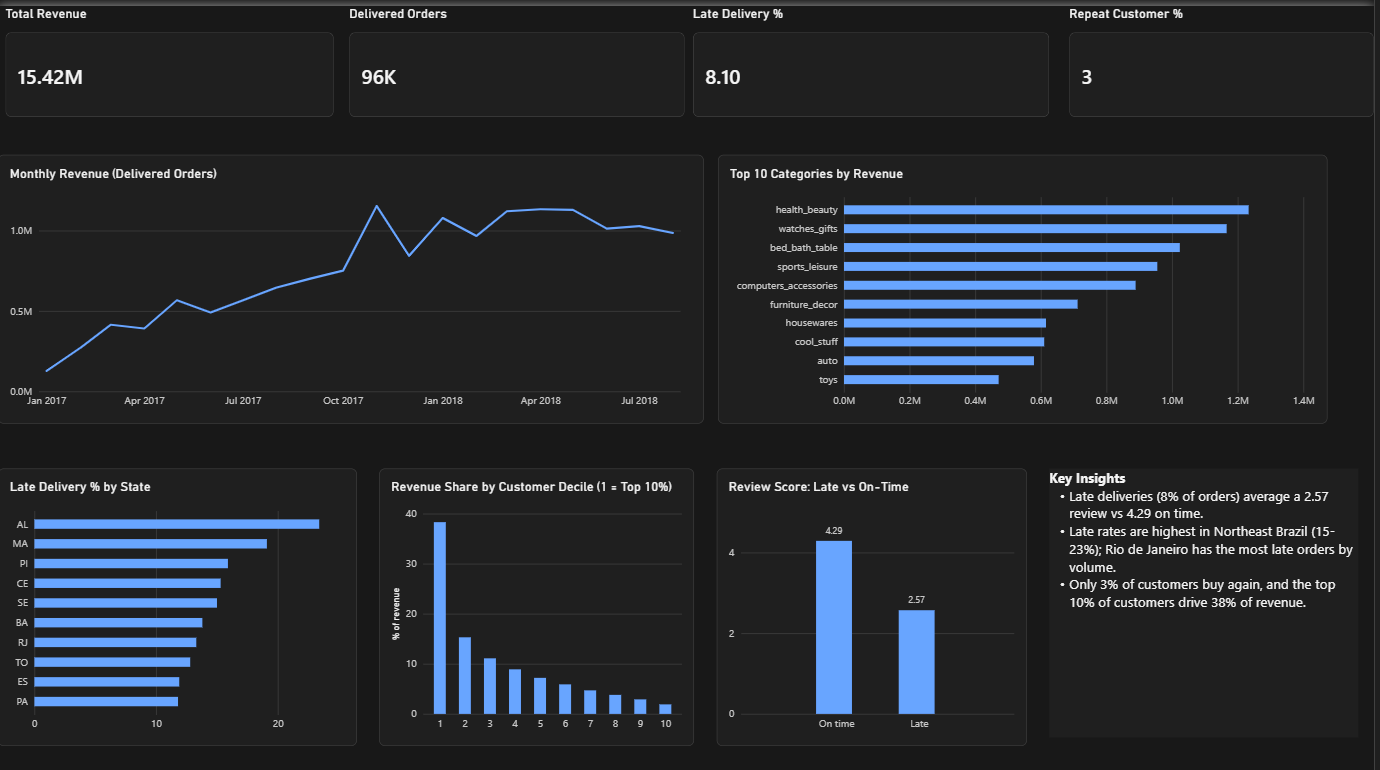

The page's visual inventory and layout, read from the dashboard file:
{"tool":"powerbi","page":{"name":"Page 1","canvas":[1920,1080],"ordinal":0},"visuals":[{"type":"cardVisual","title":"Total Revenue","fields":{"Data":["Sum(kpis.total_revenue)"]},"box":[10.6,0,458.2,155.1],"z":0},{"type":"lineChart","title":"Monthly Revenue (Delivered Orders)","fields":{"Category":["monthly_revenue.month"],"Y":["Sum(monthly_revenue.revenue)"]},"box":[0,207.9,985,375],"z":1000},{"type":"clusteredBarChart","title":"Top 10 Categories by Revenue","fields":{"Category":["top_categories.category"],"Y":["Sum(top_categories.revenue)"]},"box":[1004.4,207.9,850,375],"z":1001},{"type":"clusteredBarChart","title":"Late Delivery % by State","fields":{"Category":["delivery_by_state.state"],"Y":["Sum(delivery_by_state.late_pct)"]},"box":[0,645.4,500.6,387.2],"z":1002},{"type":"clusteredColumnChart","title":"Review Score: Late vs On-Time","fields":{"Category":["delivery_vs_reviews.delivery_status"],"Y":["Sum(delivery_vs_reviews.avg_review_score)"]},"box":[1002.9,645.4,432.6,387.2],"z":1003},{"type":"clusteredColumnChart","title":"Revenue Share by Customer Decile (1 = Top 10%)","fields":{"Category":["spend_deciles.decile"],"Y":["Sum(spend_deciles.pct_of_revenue)"]},"box":[532,645.4,439.5,387.2],"z":1004},{"type":"cardVisual","title":"Delivered Orders","fields":{"Data":["Sum(monthly_revenue.orders)"]},"box":[490.1,0,468.7,155.1],"z":1005},{"type":"cardVisual","title":"Late Delivery %","fields":{"Data":["Sum(kpis.late_delivery_pct)"]},"box":[969.8,0,497.1,155.2],"z":1006},{"type":"cardVisual","title":"Repeat Customer %","fields":{"Data":["Sum(kpis.repeat_rate_pct)"]},"box":[1494.8,0,425.6,155.2],"z":1007},{"type":"textbox","box":[1466.9,645.4,430.8,375],"z":1008}]}

Visuals, with their boxes in screenshot pixels (x1, y1, x2, y2), scaled from the page's 1920x1080 canvas onto the 1380x770 screenshot:
"Total Revenue" cardVisual: x1=8 y1=0 x2=337 y2=111
"Monthly Revenue (Delivered Orders)" lineChart: x1=0 y1=148 x2=708 y2=416
"Top 10 Categories by Revenue" clusteredBarChart: x1=722 y1=148 x2=1333 y2=416
"Late Delivery % by State" clusteredBarChart: x1=0 y1=460 x2=360 y2=736
"Review Score: Late vs On-Time" clusteredColumnChart: x1=721 y1=460 x2=1032 y2=736
"Revenue Share by Customer Decile (1 = Top 10%)" clusteredColumnChart: x1=382 y1=460 x2=698 y2=736
"Delivered Orders" cardVisual: x1=352 y1=0 x2=689 y2=111
"Late Delivery %" cardVisual: x1=697 y1=0 x2=1054 y2=111
"Repeat Customer %" cardVisual: x1=1074 y1=0 x2=1379 y2=111
textbox: x1=1054 y1=460 x2=1364 y2=728
